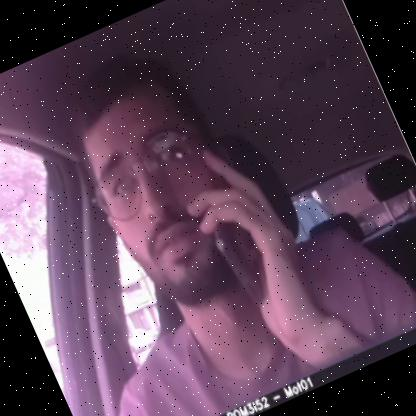phone: (176, 136, 307, 326)
